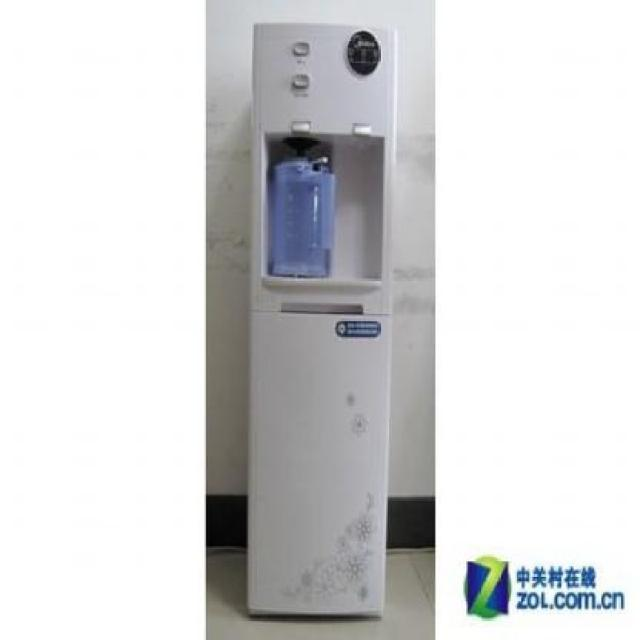cooler: (245, 15, 402, 621)
